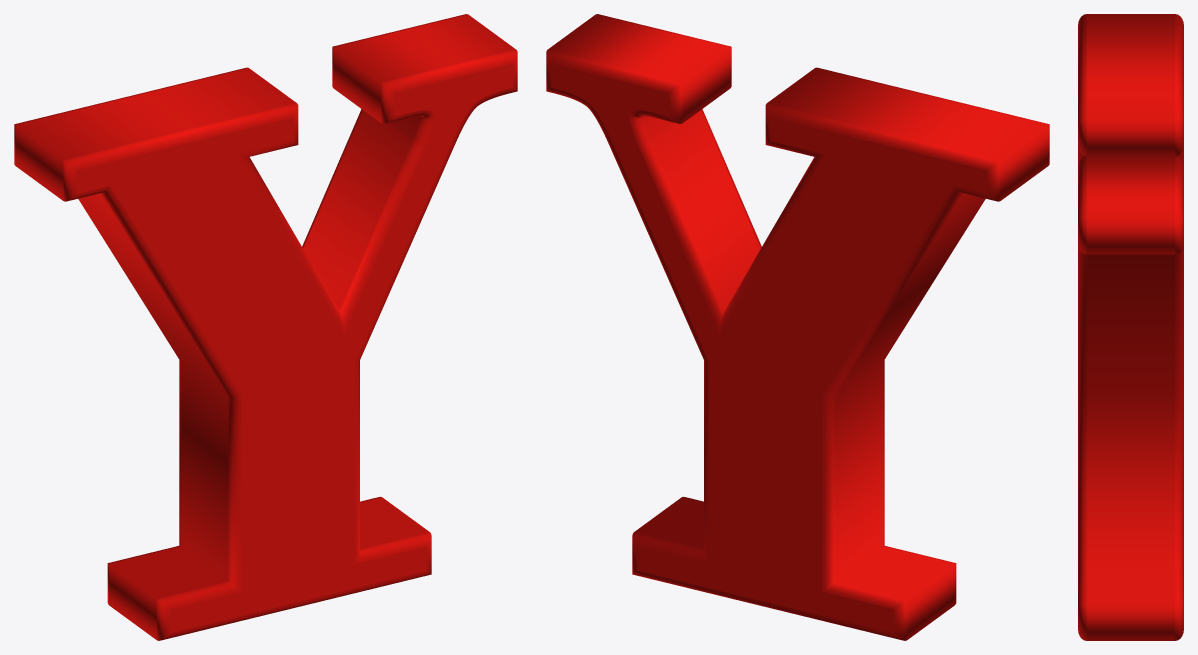
The model's file is capital_y.fbx.
The picture shows the model from 3 angles, left to right: view 1: azimuth 30°, elevation 25°; view 2: azimuth 150°, elevation 25°; view 3: azimuth 270°, elevation 25°; orthographic projection. The views are drawn at different scales.
Visible parts, largest first — view 1: Text; view 2: Text; view 3: Text.
Boxes of the visible parts, x1,y1,x2,y2 form: Text: [14, 14, 517, 640]; Text: [546, 14, 1049, 640]; Text: [1078, 14, 1183, 640].
Bounding box in the file's own units: 208 × 221 × 45.87.
